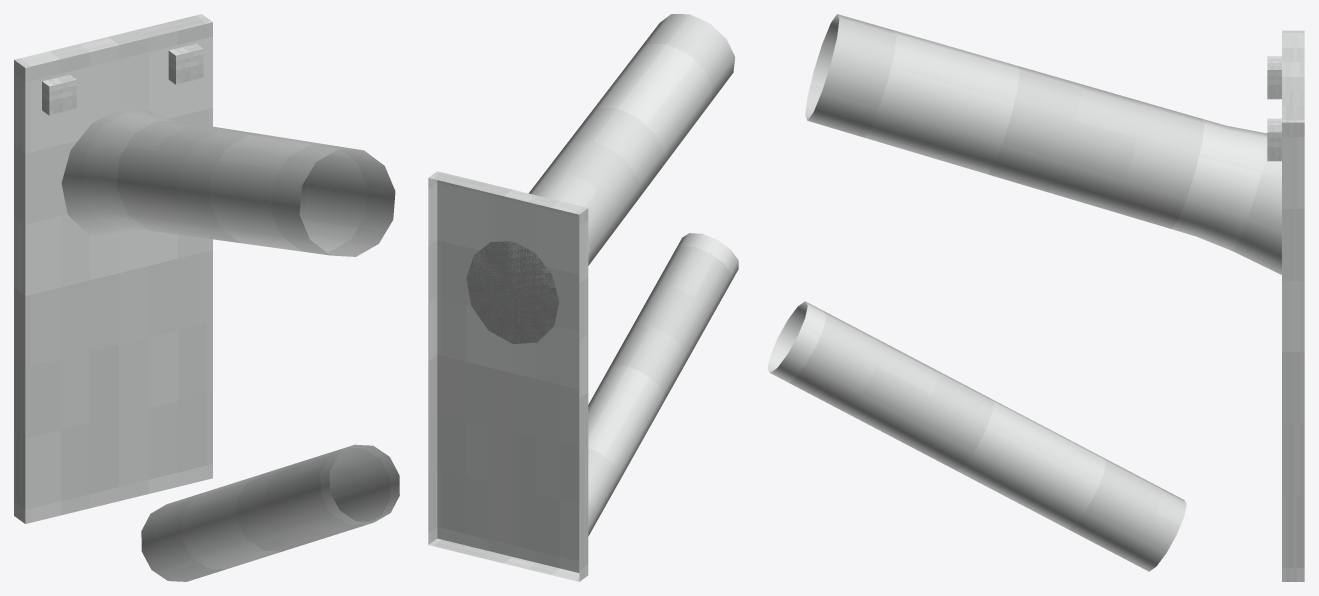
Rendered from luminairearm_truss12ftstraightdouble_c9_wall.obj.
The picture shows the model from 3 angles, left to right: view 1: azimuth 30°, elevation 25°; view 2: azimuth 150°, elevation 25°; view 3: azimuth 270°, elevation 25°; orthographic projection. The views are drawn at different scales.
Parts seen in each view (by area): view 1: luminairearm_truss12ftstraightdouble_c9_wall; view 2: luminairearm_truss12ftstraightdouble_c9_wall; view 3: luminairearm_truss12ftstraightdouble_c9_wall.
Part boxes in pixels (left/top/right/bottom): luminairearm_truss12ftstraightdouble_c9_wall: left=14, top=14, right=399, bottom=581; luminairearm_truss12ftstraightdouble_c9_wall: left=428, top=14, right=738, bottom=581; luminairearm_truss12ftstraightdouble_c9_wall: left=767, top=14, right=1304, bottom=581.
Bounding box in the file's own units: 0.4222 × 1.17 × 1.04.
